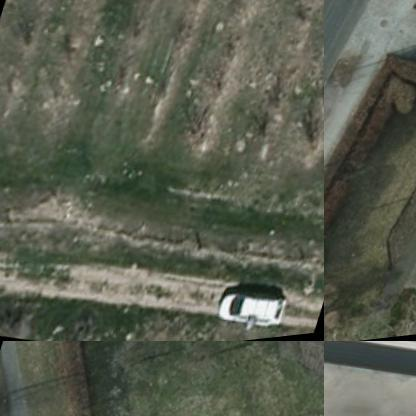car: (217, 290, 295, 340)
